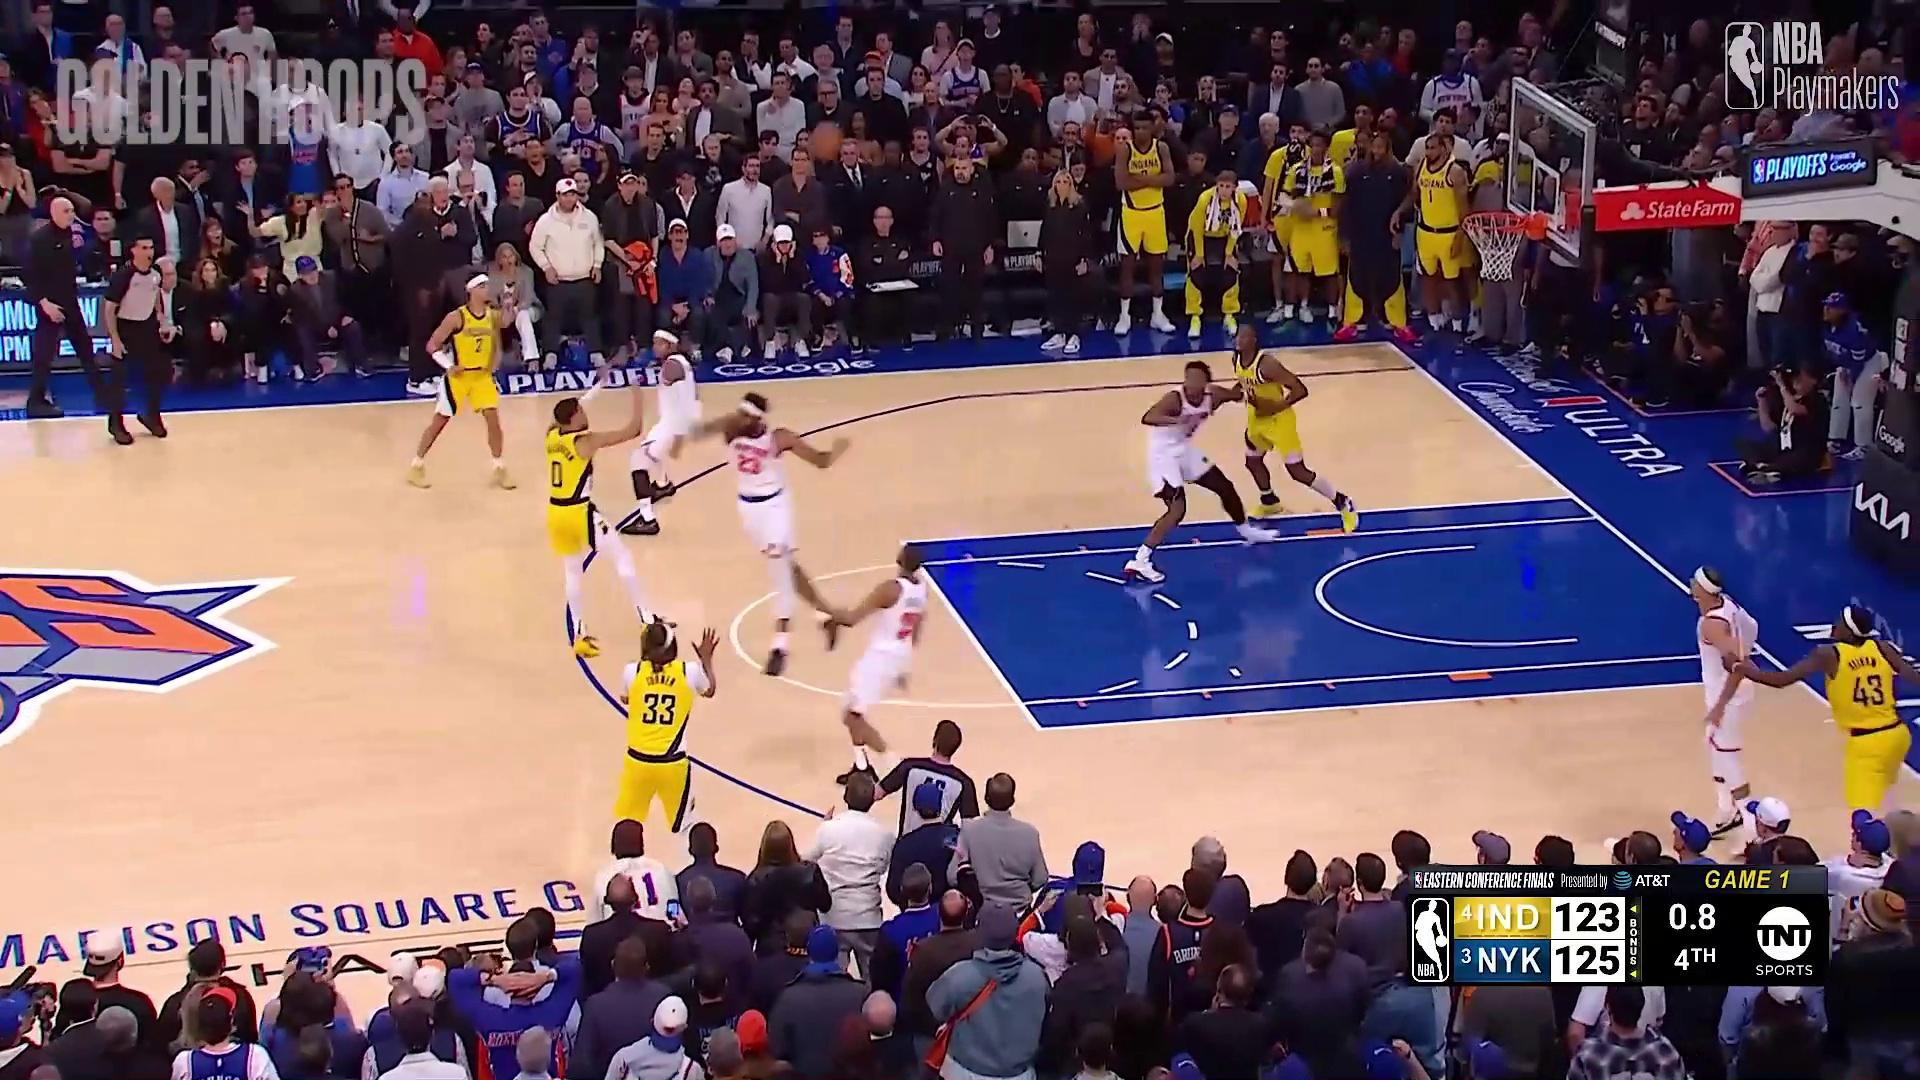ball: (802, 123, 843, 164)
hoop: (1458, 196, 1523, 290)
